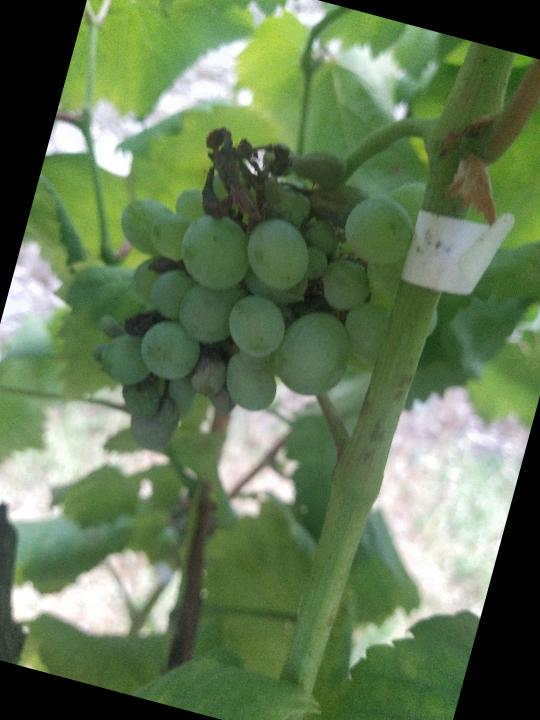grape: (58, 97, 429, 504)
